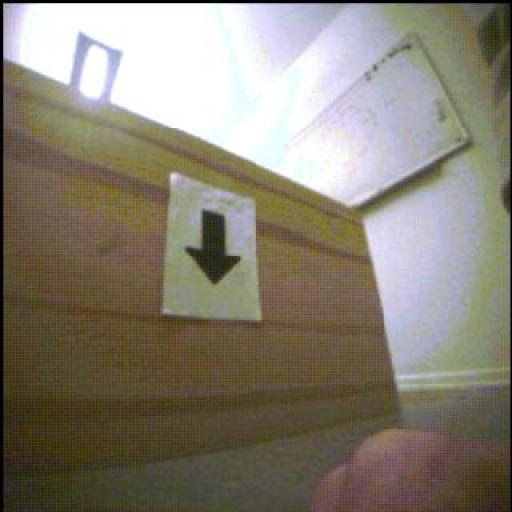Arrow: (187, 211, 241, 284)
